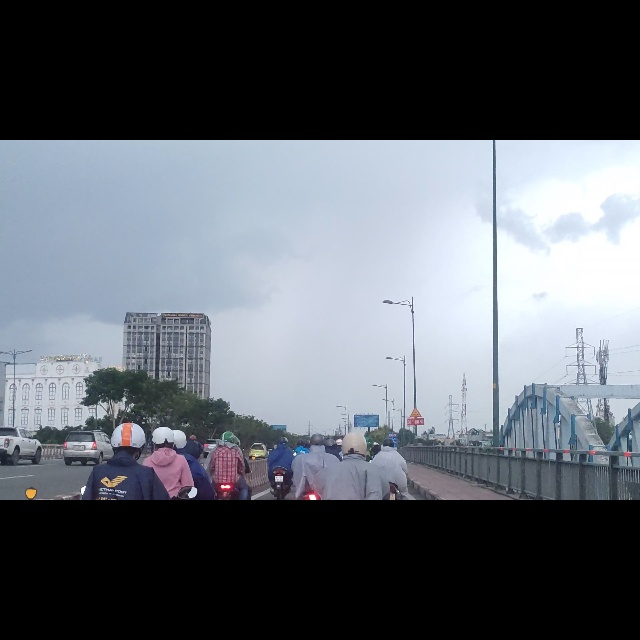bien_nguy_hiem: (409, 472, 423, 494)
